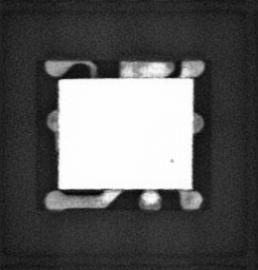DIE_INK: (169, 156, 176, 163)
